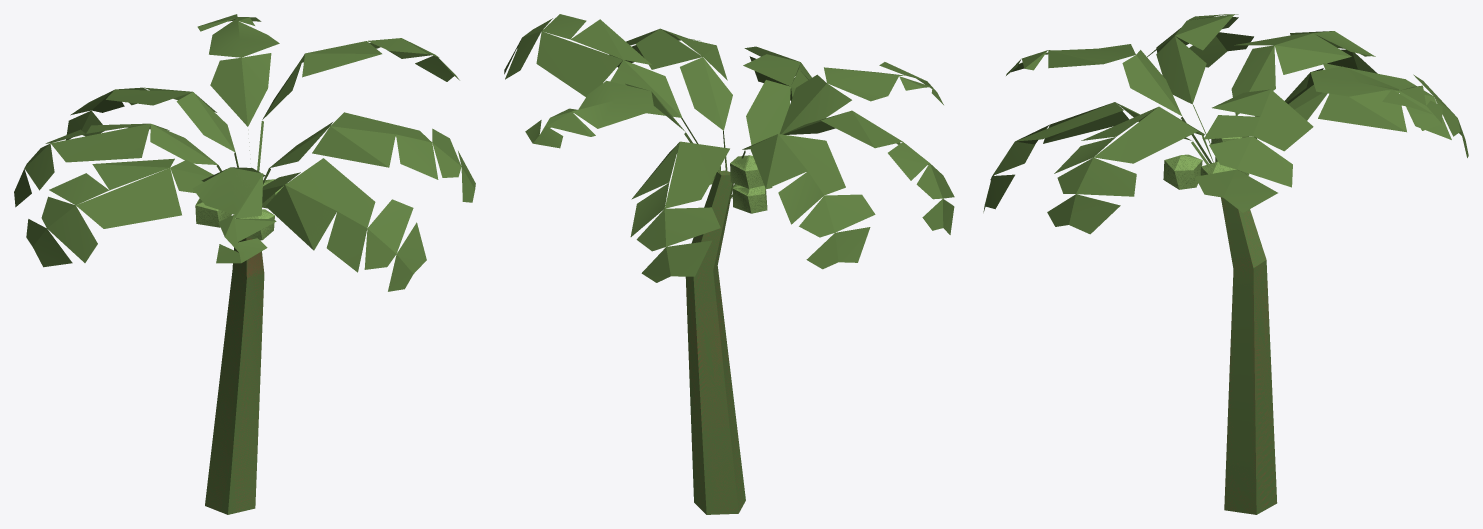
File: Vegetation_Tree_Palm_Coconuts_02.fbx
3 views of the same model, side by side, from view 1: azimuth 30°, elevation 25°; view 2: azimuth 150°, elevation 25°; view 3: azimuth 270°, elevation 25° (orthographic). The views are drawn at different scales.
Visible parts, largest first — view 1: Vegetation_Tree_Palm_Coconuts_02; view 2: Vegetation_Tree_Palm_Coconuts_02; view 3: Vegetation_Tree_Palm_Coconuts_02.
Part boxes in pixels (left/top/right/bottom): Vegetation_Tree_Palm_Coconuts_02: left=14, top=14, right=475, bottom=514; Vegetation_Tree_Palm_Coconuts_02: left=504, top=14, right=954, bottom=514; Vegetation_Tree_Palm_Coconuts_02: left=983, top=14, right=1468, bottom=514.
Size of the model in its own units: 167 by 162 by 153.
